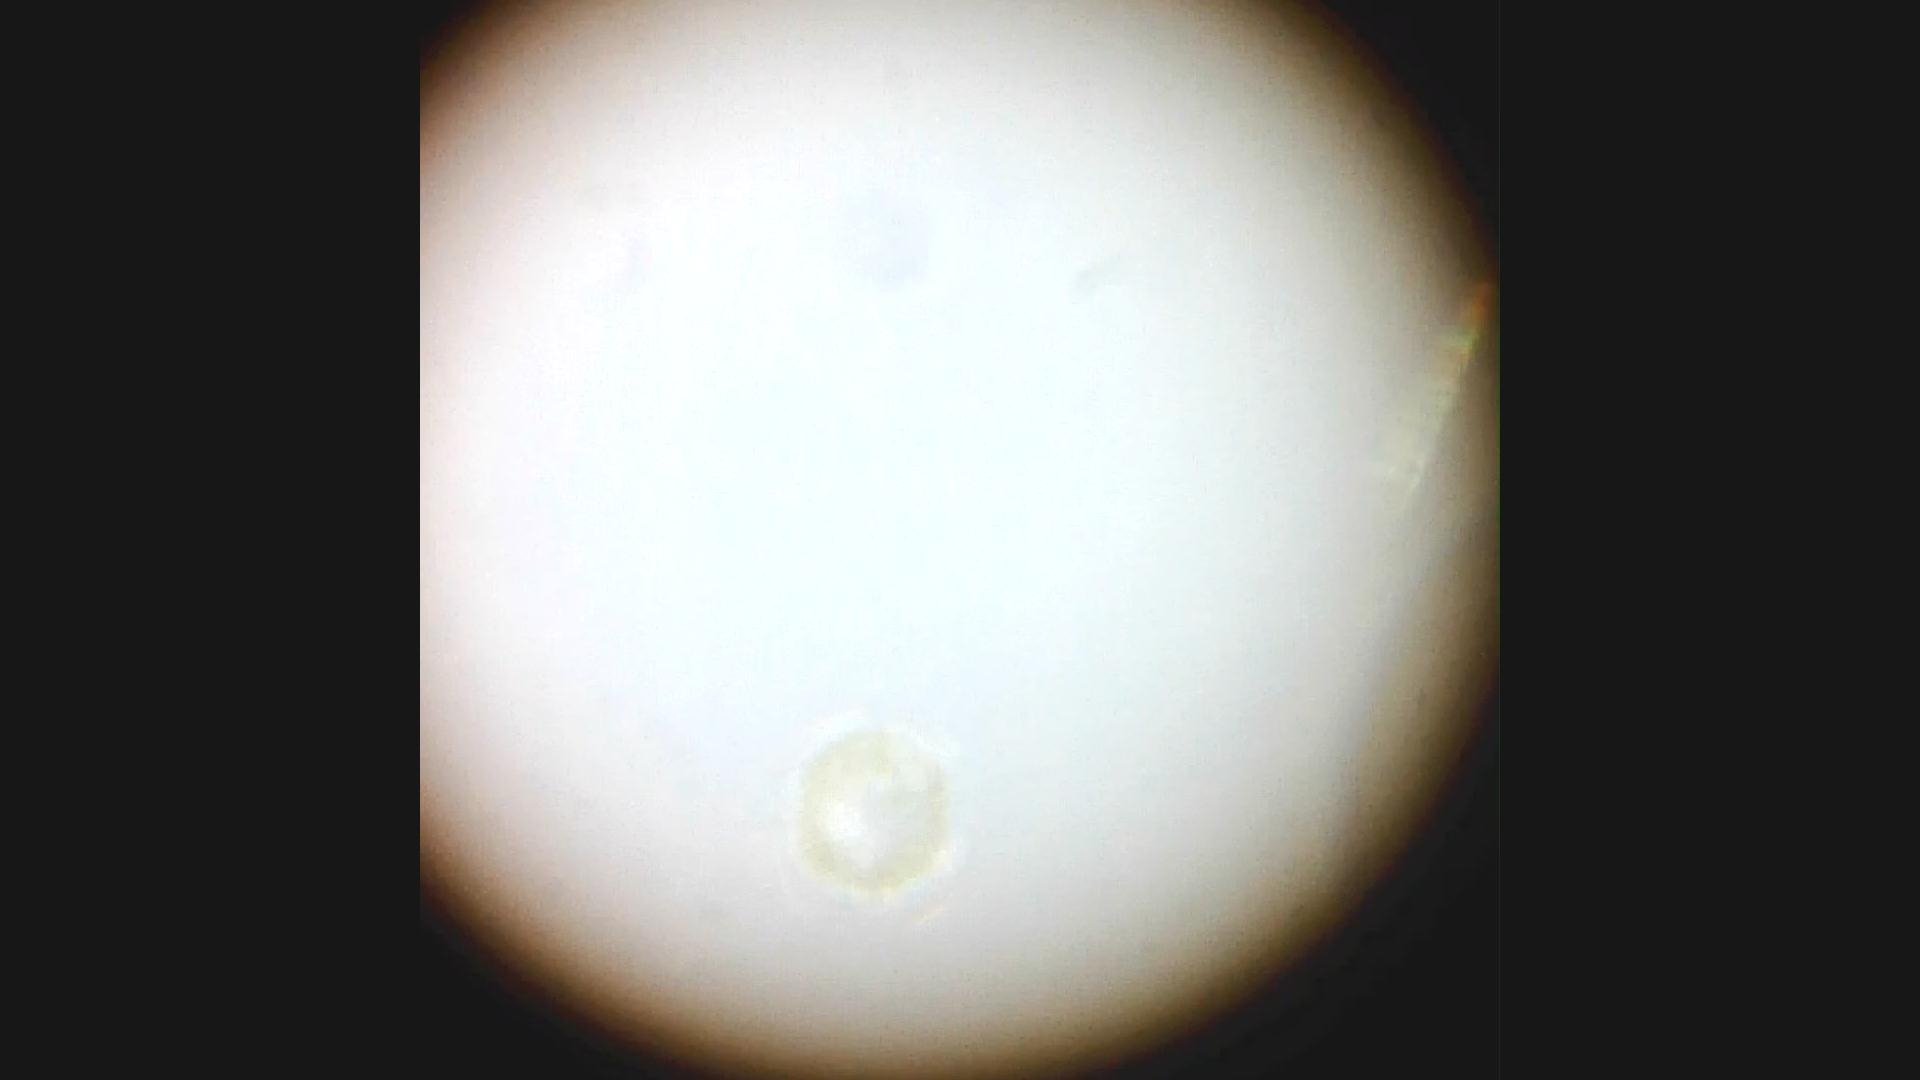alexandrium minutum: (777, 716, 973, 914)
